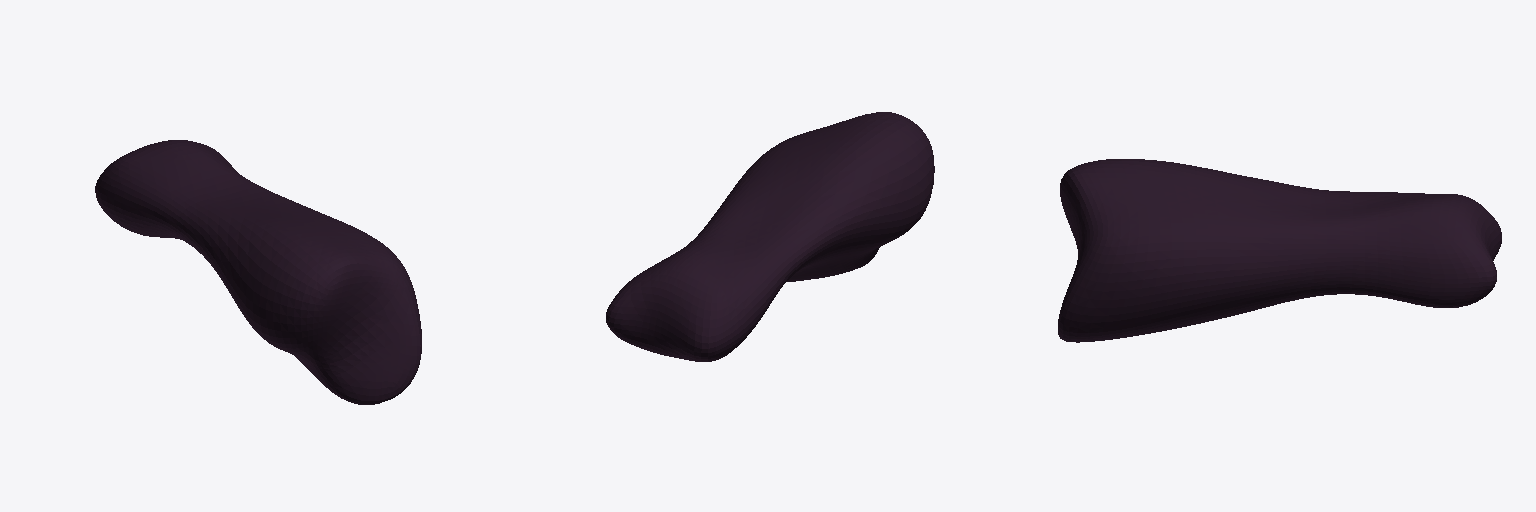
Rendered from forearm.obj.
The picture shows the model from 3 angles: view 1: azimuth 30°, elevation 25°; view 2: azimuth 150°, elevation 25°; view 3: azimuth 270°, elevation 25°; orthographic projection.
Parts seen in each view (by area): view 1: forearm; view 2: forearm; view 3: forearm.
Part boxes in pixels (bbox=[...]): forearm: bbox=[95, 140, 421, 404]; forearm: bbox=[606, 112, 934, 361]; forearm: bbox=[1058, 159, 1501, 342].
Bounding box in the file's own units: 4.27 × 4.12 × 10.66.